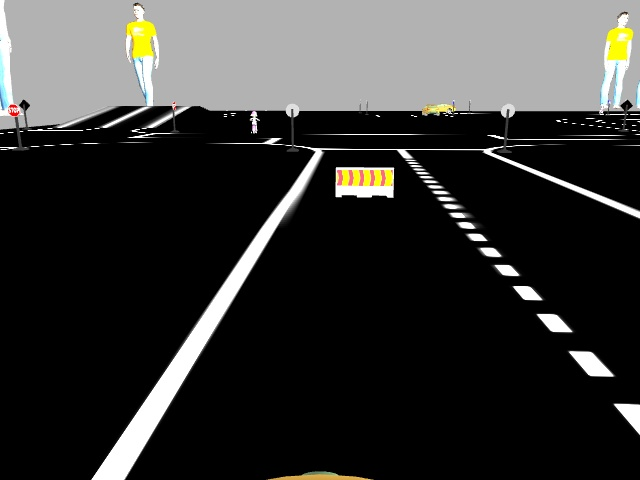ClosedRoadStand: (335, 167, 391, 196)
